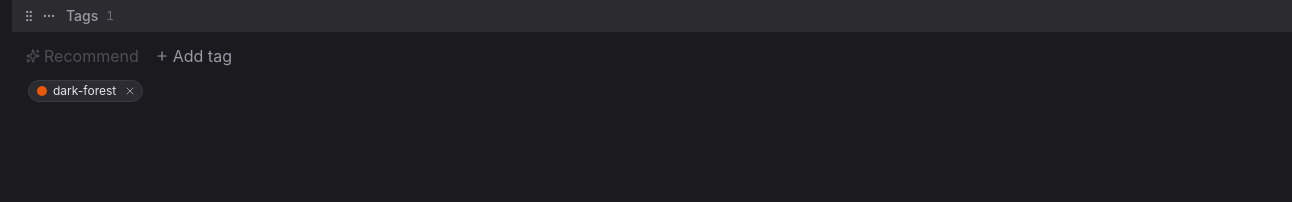
Scenario: TagsPanel (F-4.4, the tags column) › Add tag opens a picker of the unassigned tags only; typing filters; Enter links the active one and closes
The width and height of the screenshot is (1292, 202).
Click the button "Add tag".
click(193, 56)  # box x1=149 y1=40 x2=238 y2=72
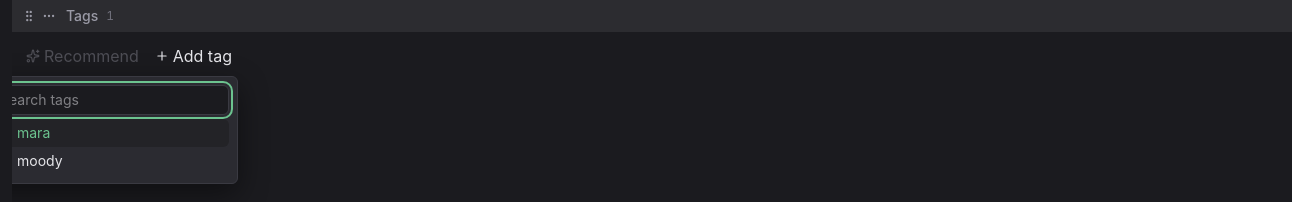
Now the button "Add tag" is expanded, box x1=149 y1=40 x2=238 y2=72
Type keys "mo"
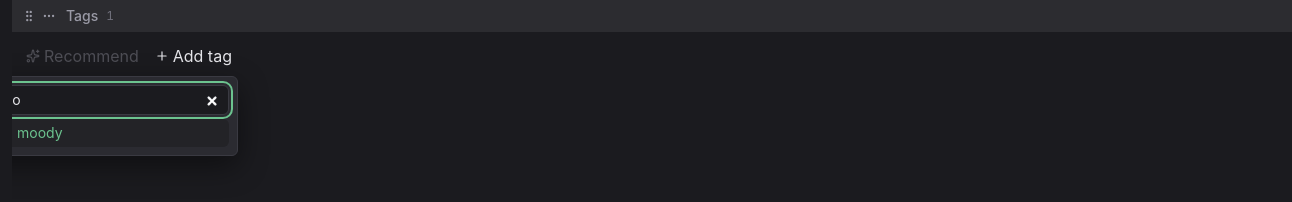
Press Enter
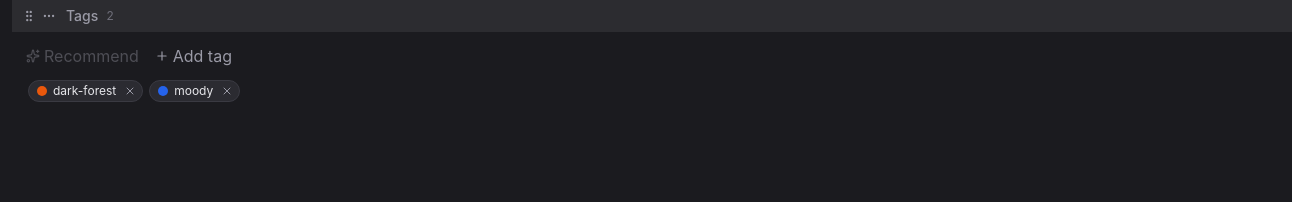
Expected: the search field labelled "Search tags" is not shown
Now the button "Add tag" is collapsed, box x1=149 y1=40 x2=238 y2=72
